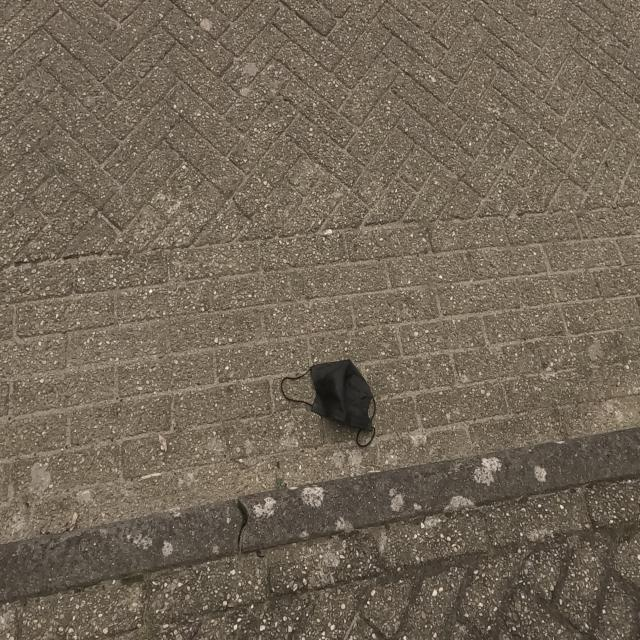Mask: (280, 358, 376, 448)
